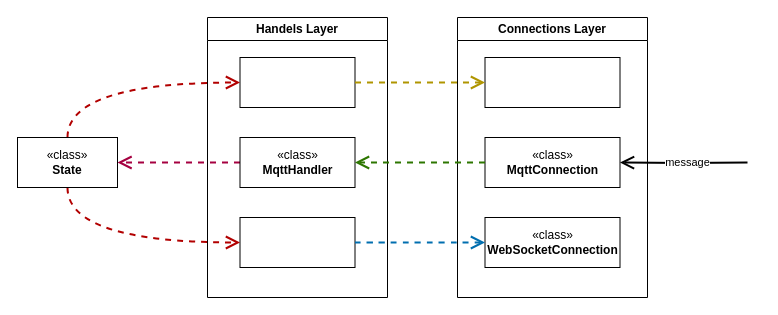
This 778x315 diagram has some shape labels left out. Here are the shapes that lost their labels. From the top down, the centre of each, then its label:
At point 297,82: "«class» SerialHandler".
At point 552,82: "«class» SerialConnection".
At point 297,242: "«class» WebSocketHandler".
